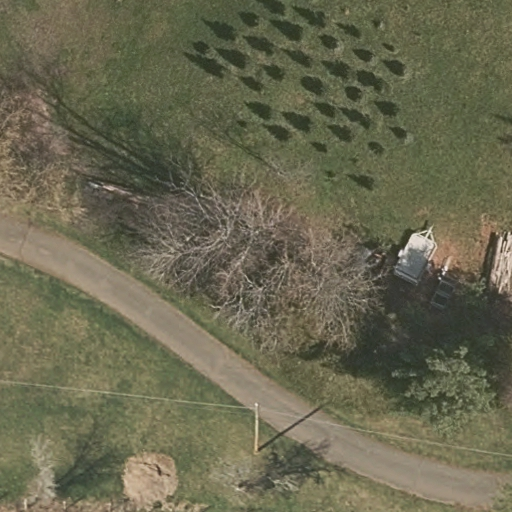DT: (252, 402, 264, 457)
